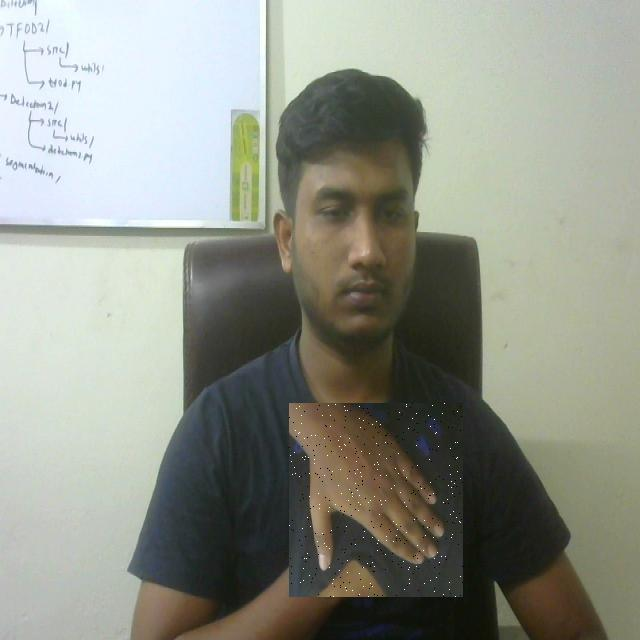Please: (289, 403, 463, 597)
